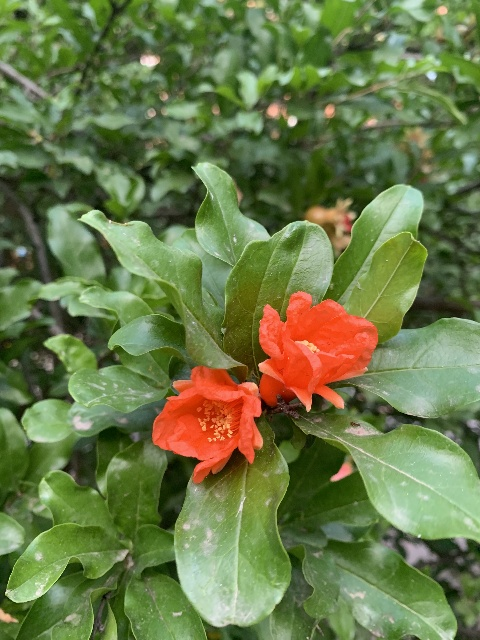early-fruit: (304, 196, 355, 235)
flower: (256, 290, 377, 411), (152, 364, 263, 482)
